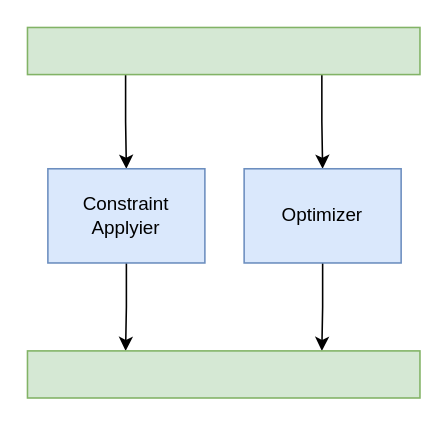
This 447x425 diagram has some shape labels left out. Here are the shapes that lost their labels. From the top down, the box of each, then its label:
(26, 26, 420, 75): REST Interface (API)
(26, 349, 420, 398): Database (MongoDB)
